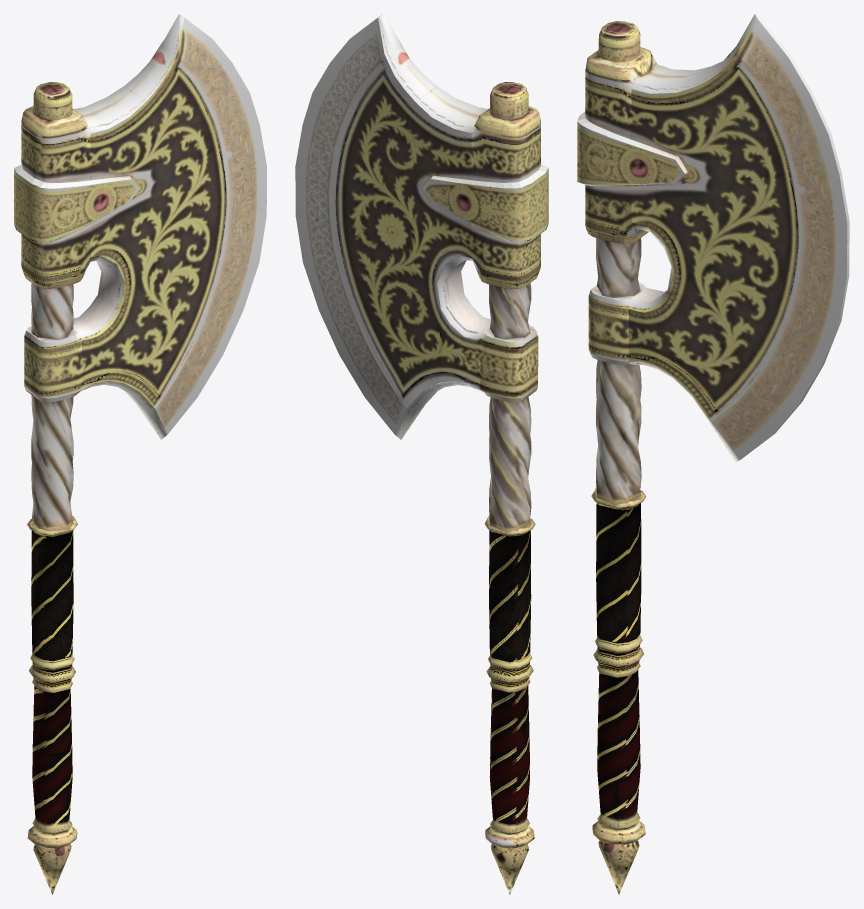
Rendered from w_battleaxe_t3.glb.
3 views of the same model, side by side, from view 1: azimuth 30°, elevation 25°; view 2: azimuth 150°, elevation 25°; view 3: azimuth 330°, elevation 25° (orthographic). The views are drawn at different scales.
Visible parts, largest first — view 1: BattleAxe:0; view 2: BattleAxe:0; view 3: BattleAxe:0.
Part boxes in pixels (box(x1,y1,x2,y2)): BattleAxe:0: box(14, 14, 266, 894); BattleAxe:0: box(295, 14, 548, 894); BattleAxe:0: box(577, 14, 849, 894).
Bounding box in the file's own units: 18.12 × 60.84 × 4.22.
1 material, 1 textured.
